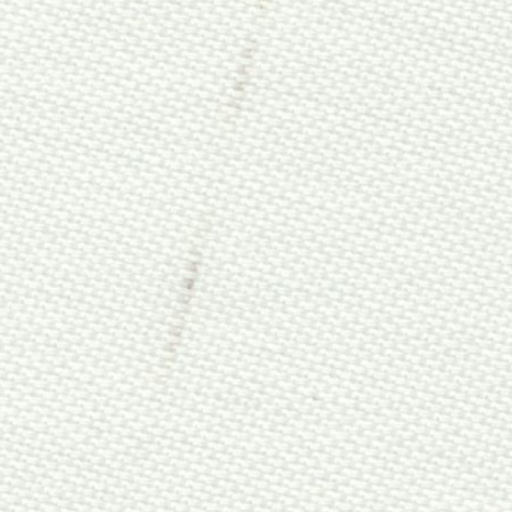WuZi: (160, 10, 278, 390)
